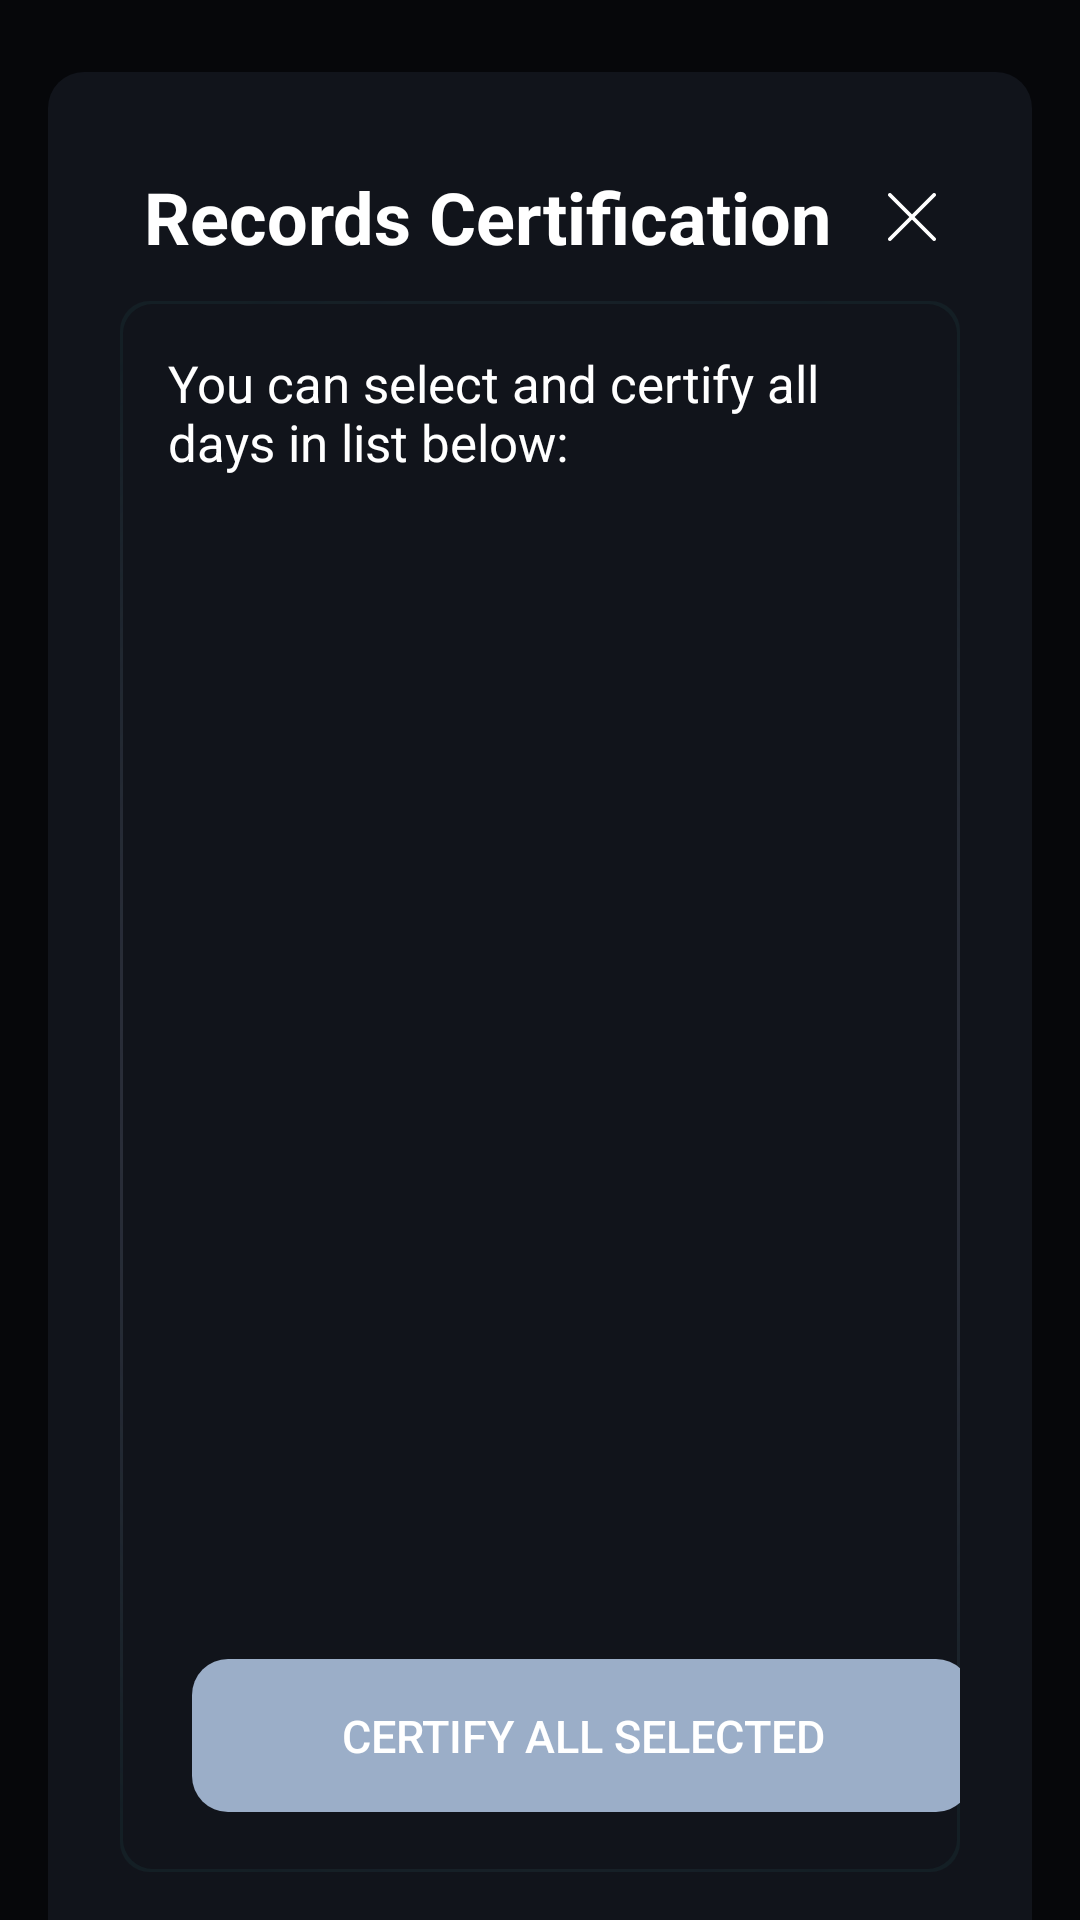

Point at icon controls on the screen. Image size 1080 × 1920, points as point (x, y).
close: point (912, 217)
